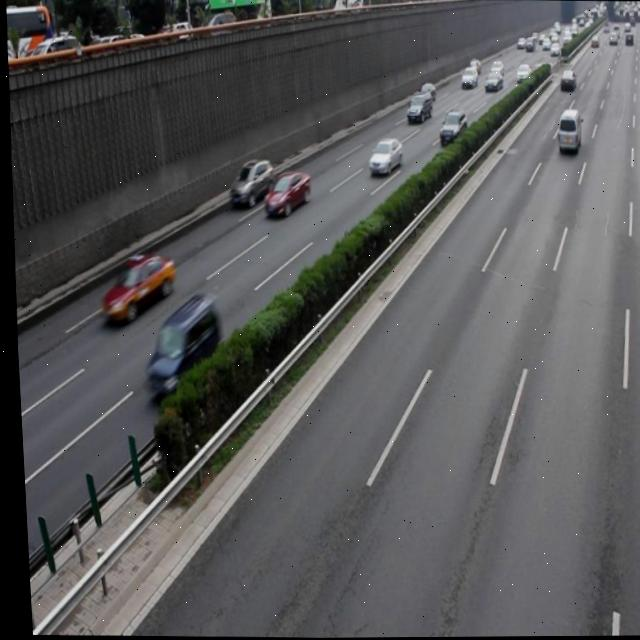car: (94, 249, 173, 320), (258, 167, 309, 217), (224, 156, 272, 207), (365, 136, 400, 177)
truck: (137, 291, 219, 402)
